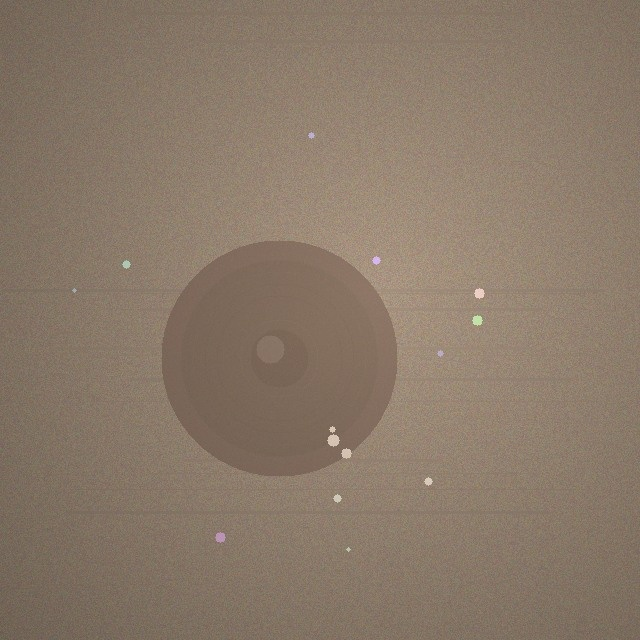overburn: (161, 240, 397, 476)
